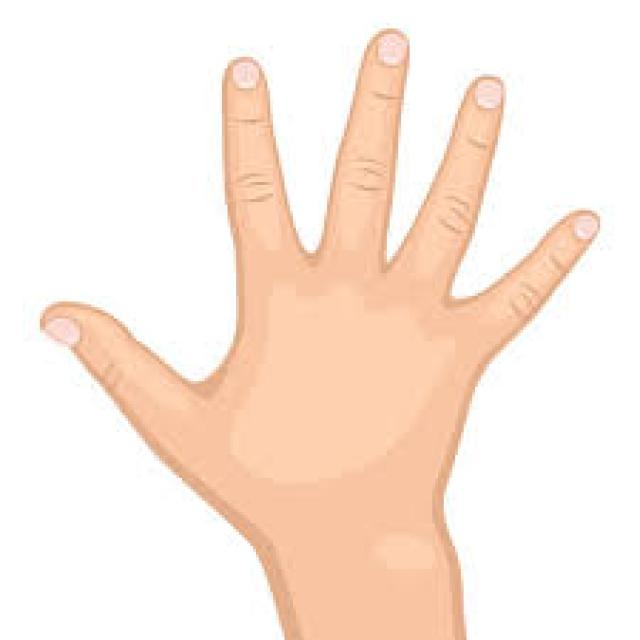hand: (7, 0, 622, 582)
